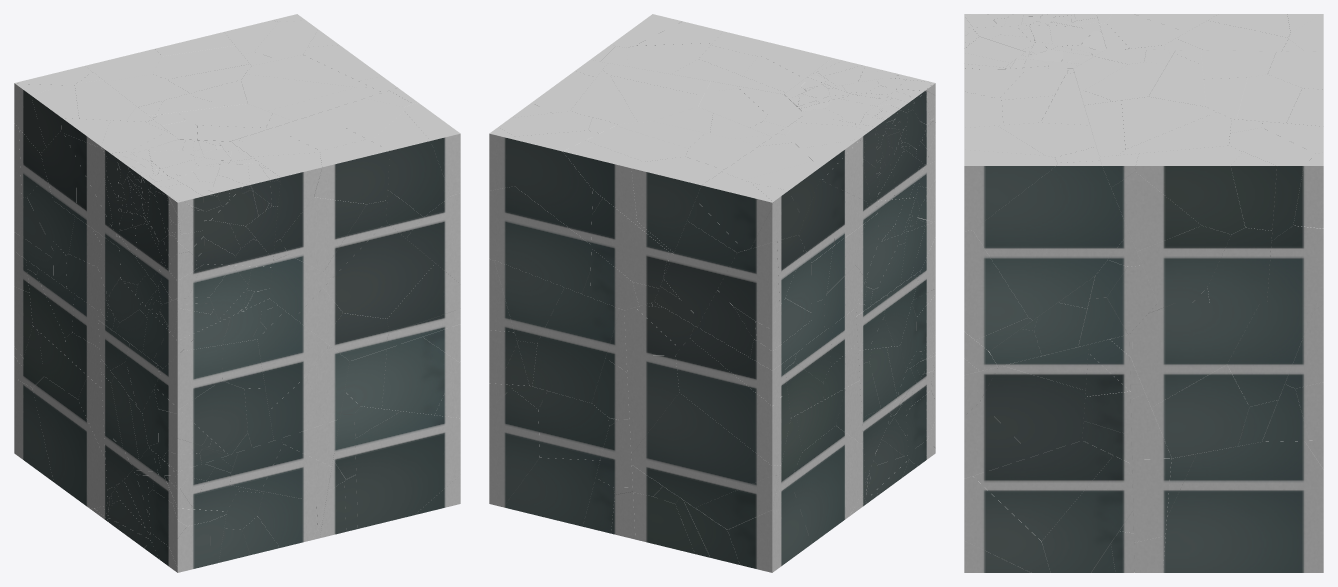
Rendered from building.fbx.
3 renders of one model, left to right at view 1: azimuth 30°, elevation 25°; view 2: azimuth 150°, elevation 25°; view 3: azimuth 270°, elevation 25°, orthographic. The views are drawn at different scales.
Parts seen in each view (by area): view 1: Cube_cell.003_cell.003_cell, Cube_cell.002_cell.005_cell.003, Cube_cell.005_cell.005_cell, Cube_cell.002_cell.004_cell.002, Cube_cell.003_cell.004_cell.006, Cube_cell.002_cell.007_cell.004, Cube_cell.007_cell.005_cell.006_cell.007, Cube_cell.002_cell.007_cell.001, Cube_cell.007_cell.005_cell.004_cell, Cube_cell.002_cell.007_cell.007, Cube_cell.002_cell.004_cell.004, Cube_cell.007_cell.005_cell.004_cell.005 (+106 smaller); view 2: Cube_cell.005_cell.006_cell.005, Cube_cell_cell.002_cell.004, Cube_cell.005_cell.006_cell.006, Cube_cell.001_cell.005_cell.002, Cube_cell.005_cell.005_cell, Cube_cell_cell.002_cell.003, Cube_cell_cell.007_cell.006, Cube_cell.001_cell.006_cell.006, Cube_cell.001_cell.006_cell.007, Cube_cell.005_cell.005_cell.007, Cube_cell.001_cell.006_cell.005, Cube_cell_cell.005_cell (+89 smaller); view 3: Cube_cell.001_cell.006_cell.006, Cube_cell.002_cell.004_cell.005, Cube_cell.001_cell.005_cell.006, Cube_cell.003_cell.003_cell.001, Cube_cell.003_cell.004_cell.004, Cube_cell_cell.003_cell.005, Cube_cell.003_cell.003_cell.002, Cube_cell.001_cell.005_cell.001, Cube_cell.001_cell.005_cell.004, Cube_cell_cell.003_cell.001, Cube_cell.002_cell.004_cell.003, Cube_cell.003_cell.003_cell (+63 smaller).
Part boxes in pixels (left/top/right/bottom): Cube_cell.003_cell.003_cell: left=355, top=411, right=460, bottom=528; Cube_cell.002_cell.005_cell.003: left=323, top=222, right=434, bottom=318; Cube_cell.005_cell.005_cell: left=32, top=376, right=107, bottom=508; Cube_cell.002_cell.004_cell.002: left=371, top=111, right=450, bottom=216; Cube_cell.003_cell.004_cell.006: left=382, top=337, right=458, bottom=414; Cube_cell.002_cell.007_cell.004: left=314, top=139, right=389, bottom=204; Cube_cell.007_cell.005_cell.006_cell.007: left=257, top=311, right=327, bottom=410; Cube_cell.002_cell.007_cell.001: left=280, top=197, right=366, bottom=271; Cube_cell.007_cell.005_cell.004_cell: left=179, top=380, right=247, bottom=454; Cube_cell.002_cell.007_cell.007: left=252, top=152, right=322, bottom=241; Cube_cell.002_cell.004_cell.004: left=328, top=98, right=423, bottom=238; Cube_cell.007_cell.005_cell.004_cell.005: left=155, top=345, right=223, bottom=408; Cube_cell.005_cell.006_cell.005: left=631, top=392, right=781, bottom=507; Cube_cell_cell.002_cell.004: left=489, top=186, right=591, bottom=293; Cube_cell.005_cell.006_cell.006: left=676, top=338, right=790, bottom=465; Cube_cell.001_cell.005_cell.002: left=532, top=287, right=620, bottom=403; Cube_cell.005_cell.005_cell: left=790, top=426, right=865, bottom=543; Cube_cell_cell.002_cell.003: left=514, top=130, right=599, bottom=244; Cube_cell_cell.007_cell.006: left=631, top=156, right=723, bottom=252; Cube_cell.001_cell.006_cell.006: left=489, top=388, right=539, bottom=507; Cube_cell.001_cell.006_cell.007: left=504, top=457, right=600, bottom=526; Cube_cell.005_cell.005_cell.007: left=727, top=481, right=811, bottom=572; Cube_cell.001_cell.006_cell.005: left=538, top=391, right=609, bottom=460; Cube_cell_cell.005_cell: left=591, top=198, right=668, bottom=288; Cube_cell.001_cell.006_cell.006: left=1163, top=441, right=1323, bottom=572; Cube_cell.002_cell.004_cell.005: left=973, top=160, right=1128, bottom=319; Cube_cell.001_cell.005_cell.006: left=1132, top=303, right=1259, bottom=407; Cube_cell.003_cell.003_cell.001: left=973, top=440, right=1113, bottom=540; Cube_cell.003_cell.004_cell.004: left=980, top=366, right=1085, bottom=456; Cube_cell_cell.003_cell.005: left=1135, top=145, right=1245, bottom=234; Cube_cell.003_cell.003_cell.002: left=1041, top=455, right=1133, bottom=572; Cube_cell.001_cell.005_cell.001: left=1151, top=364, right=1249, bottom=458; Cube_cell.001_cell.005_cell.004: left=1227, top=303, right=1316, bottom=406; Cube_cell_cell.003_cell.001: left=1137, top=225, right=1231, bottom=302; Cube_cell.002_cell.004_cell.003: left=964, top=149, right=1057, bottom=231; Cube_cell.003_cell.003_cell: left=964, top=476, right=1050, bottom=572.
Bounding box in the file's own units: 800 × 1000 × 800.
